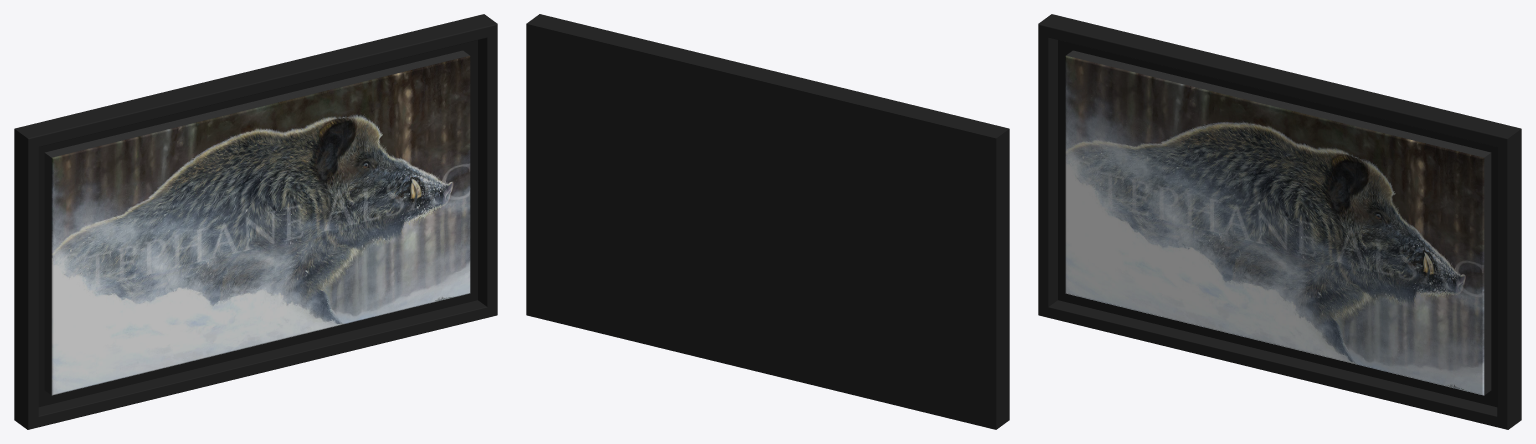
The model's file is bad-lieutenant-classique-f1091012.glb.
3 views of the same model, side by side, from view 1: azimuth 30°, elevation 25°; view 2: azimuth 150°, elevation 25°; view 3: azimuth 330°, elevation 25° (orthographic).
Visible parts, largest first — view 1: Painting; view 2: Painting; view 3: Painting.
Part boxes in pixels (x1,y1,x2,y2): Painting: [14, 14, 497, 429]; Painting: [526, 14, 1009, 429]; Painting: [1038, 14, 1521, 429].
Size of the model in its own units: 0.786 by 0.466 by 0.04.
Materials: 4 (2 with a texture image).
